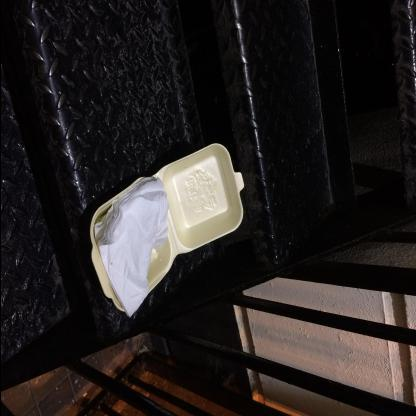kagit: (95, 177, 169, 319)
kopuk: (91, 146, 243, 312)
